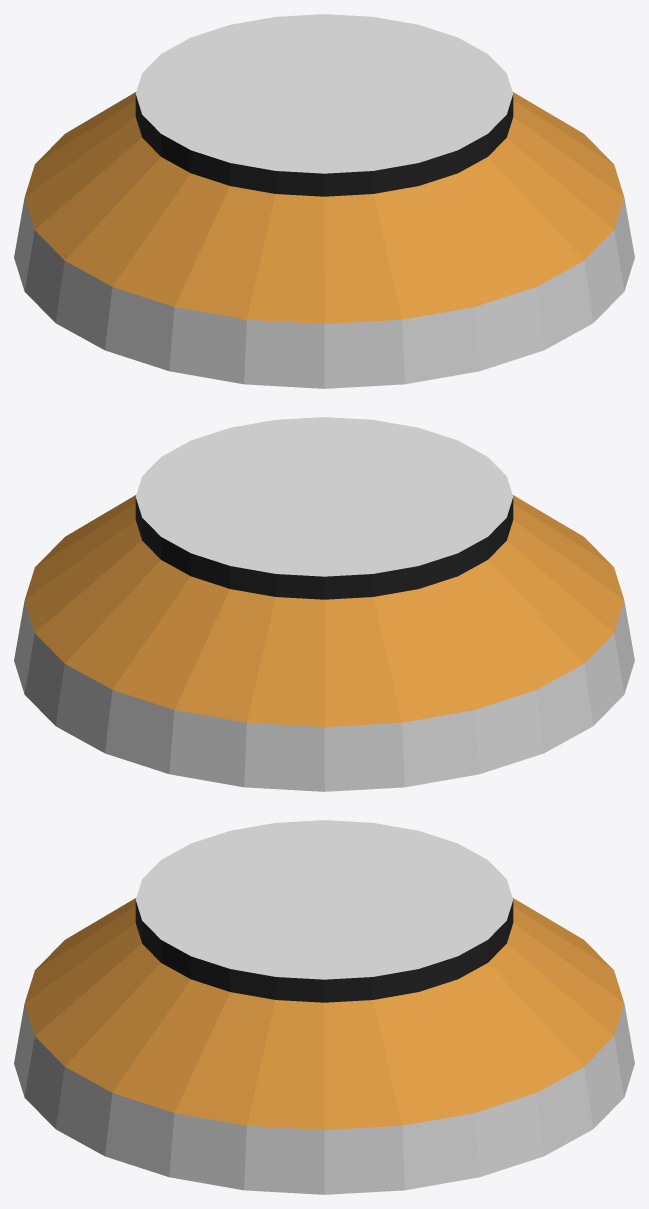
Rendered from note.obj.
3 views of the same model, one above another, from view 1: azimuth 30°, elevation 25°; view 2: azimuth 150°, elevation 25°; view 3: azimuth 270°, elevation 25° (orthographic).
Parts seen in each view (by area): view 1: Note_Cylinder.001; view 2: Note_Cylinder.001; view 3: Note_Cylinder.001.
Boxes of the visible parts, bbox=[...] form: Note_Cylinder.001: bbox=[14, 14, 634, 388]; Note_Cylinder.001: bbox=[14, 417, 634, 791]; Note_Cylinder.001: bbox=[14, 820, 634, 1194].
Bounding box in the file's own units: 2 × 0.5819 × 2.
Materials: 1 (1 with a texture image).
